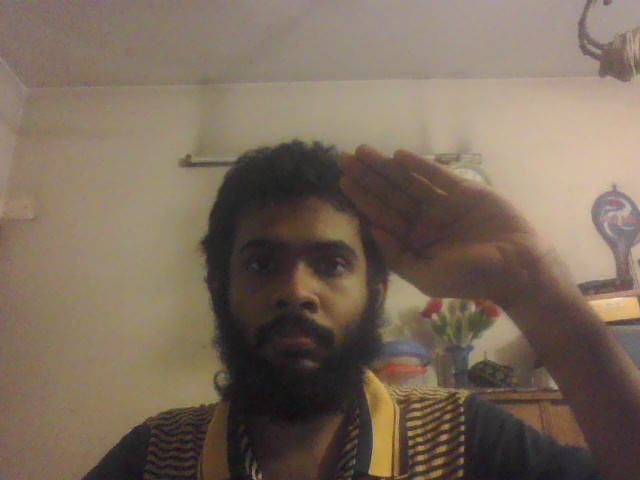Hello: (335, 144, 571, 296)
